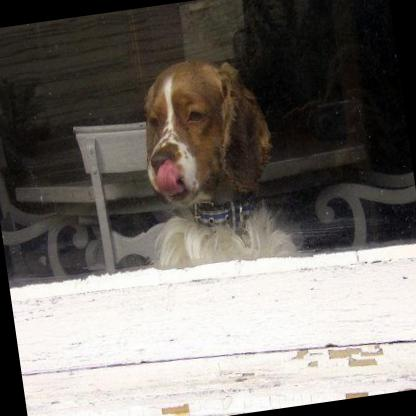cocker_spaniel: (126, 46, 304, 274)
